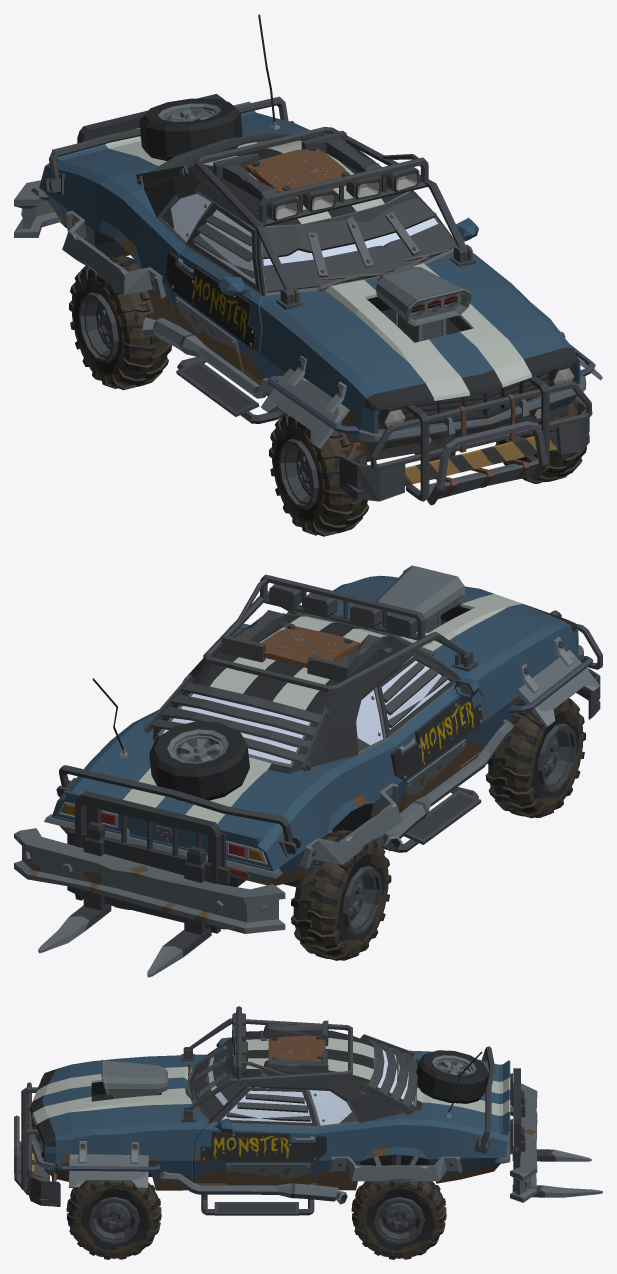
Rendered from car2.fbx.
The picture shows the model from 3 angles, top to bottom: view 1: azimuth 30°, elevation 25°; view 2: azimuth 150°, elevation 25°; view 3: azimuth 270°, elevation 25°; orthographic projection. The views are drawn at different scales.
Visible parts, largest first — view 1: SM_Veh_Muscle_01.003, SM_Veh_Muscle_Armour_01.003, SM_Veh_Attach_Bumper_05.001, SM_Veh_Muscle_Glass_Armour_01.003, SM_Veh_Muscle_Wheel_rr.003, SM_Veh_Muscle_Wheel_fr.003, SM_Veh_Attach_Plating_11.001, SM_Veh_Attach_Intake_01.001, SM_Veh_Muscle_Glass_01.003, SM_Veh_Attach_Bumper_02.001, SM_Veh_Attach_Plating_15.001, SM_Veh_Muscle_Wheel_fl.003; view 2: SM_Veh_Muscle_01.003, SM_Veh_Muscle_Armour_01.003, SM_Veh_Attach_Bumper_02.001, SM_Veh_Muscle_Wheel_rr.003, SM_Veh_Muscle_Wheel_fr.003, SM_Veh_Attach_Plating_15.001, SM_Veh_Attach_Plating_11.001, SM_Veh_Muscle_Glass_01.003, SM_Veh_Muscle_Glass_Armour_01.003, SM_Veh_Attach_Intake_01.001, SM_Veh_Attach_Bumper_05.001; view 3: SM_Veh_Muscle_01.003, SM_Veh_Muscle_Armour_01.003, SM_Veh_Muscle_Wheel_rl.003, SM_Veh_Muscle_Wheel_fl.003, SM_Veh_Muscle_Glass_Armour_01.003, SM_Veh_Attach_Bumper_02.001, SM_Veh_Attach_Plating_11.001, SM_Veh_Muscle_Glass_01.003, SM_Veh_Attach_Bumper_05.001, SM_Veh_Attach_Plating_15.001, SM_Veh_Attach_Intake_01.001.
Part boxes in pixels (box(x1,y1,x2,y2)): SM_Veh_Muscle_01.003: box(31, 14, 586, 459); SM_Veh_Muscle_Armour_01.003: box(44, 96, 602, 448); SM_Veh_Attach_Bumper_05.001: box(339, 376, 592, 505); SM_Veh_Muscle_Glass_Armour_01.003: box(161, 190, 456, 292); SM_Veh_Muscle_Wheel_rr.003: box(69, 255, 171, 389); SM_Veh_Muscle_Wheel_fr.003: box(269, 412, 369, 536); SM_Veh_Attach_Plating_11.001: box(213, 130, 381, 211); SM_Veh_Attach_Intake_01.001: box(375, 267, 471, 342); SM_Veh_Muscle_Glass_01.003: box(171, 193, 437, 283); SM_Veh_Attach_Bumper_02.001: box(14, 94, 225, 237); SM_Veh_Attach_Plating_15.001: box(136, 133, 326, 185); SM_Veh_Muscle_Wheel_fl.003: box(495, 395, 586, 483); SM_Veh_Muscle_01.003: box(44, 575, 583, 885); SM_Veh_Muscle_Armour_01.003: box(56, 574, 599, 868); SM_Veh_Attach_Bumper_02.001: box(14, 791, 285, 977); SM_Veh_Muscle_Wheel_rr.003: box(291, 829, 391, 960); SM_Veh_Muscle_Wheel_fr.003: box(485, 697, 585, 818); SM_Veh_Attach_Plating_15.001: box(143, 674, 330, 771); SM_Veh_Attach_Plating_11.001: box(221, 610, 393, 681); SM_Veh_Muscle_Glass_01.003: box(163, 656, 449, 763); SM_Veh_Muscle_Glass_Armour_01.003: box(251, 613, 458, 750); SM_Veh_Attach_Intake_01.001: box(376, 565, 464, 632); SM_Veh_Attach_Bumper_05.001: box(550, 610, 602, 719); SM_Veh_Muscle_01.003: box(29, 1030, 511, 1190); SM_Veh_Muscle_Armour_01.003: box(56, 1006, 513, 1215); SM_Veh_Muscle_Wheel_rl.003: box(351, 1180, 446, 1259); SM_Veh_Muscle_Wheel_fl.003: box(66, 1181, 161, 1259); SM_Veh_Muscle_Glass_Armour_01.003: box(189, 1038, 408, 1125); SM_Veh_Attach_Bumper_02.001: box(510, 1068, 602, 1202); SM_Veh_Attach_Plating_11.001: box(260, 1020, 328, 1076); SM_Veh_Muscle_Glass_01.003: box(208, 1049, 413, 1125); SM_Veh_Attach_Bumper_05.001: box(14, 1082, 60, 1206); SM_Veh_Attach_Plating_15.001: box(359, 1034, 417, 1115); SM_Veh_Attach_Intake_01.001: box(101, 1059, 167, 1098).
Size of the model in its own units: 276 by 253 by 683.
